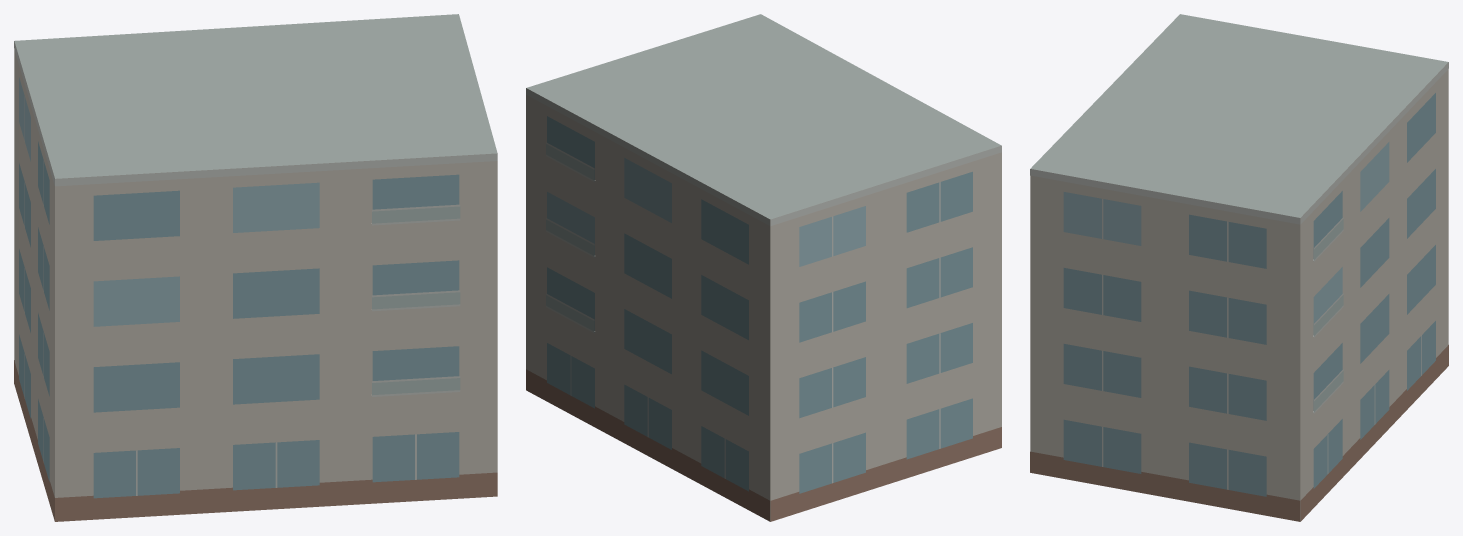
Rendered from survey-upis-32931484.glb.
3 views of the same model, side by side, from view 1: azimuth 30°, elevation 25°; view 2: azimuth 150°, elevation 25°; view 3: azimuth 270°, elevation 25° (orthographic). The views are drawn at different scales.
Parts seen in each view (by area): view 1: survey-upis-32931484.tmp; view 2: survey-upis-32931484.tmp; view 3: survey-upis-32931484.tmp.
Boxes of the visible parts, box(x1,y1,x2,y2) form: survey-upis-32931484.tmp: box(14, 14, 497, 521); survey-upis-32931484.tmp: box(526, 14, 1001, 521); survey-upis-32931484.tmp: box(1030, 14, 1448, 521).
Bounding box in the file's own units: 15.84 × 11 × 13.74.
